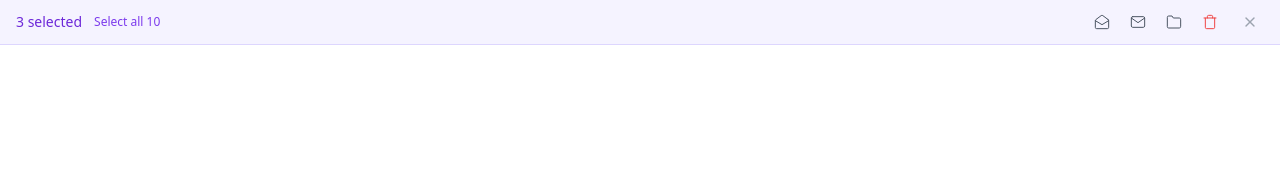
Test: BulkActionsBar › closes move dropdown after selecting a folder
The width and height of the screenshot is (1280, 172).
Click the button titled "Move to folder" at coordinates (1174, 22), box [1160,8,1188,36]
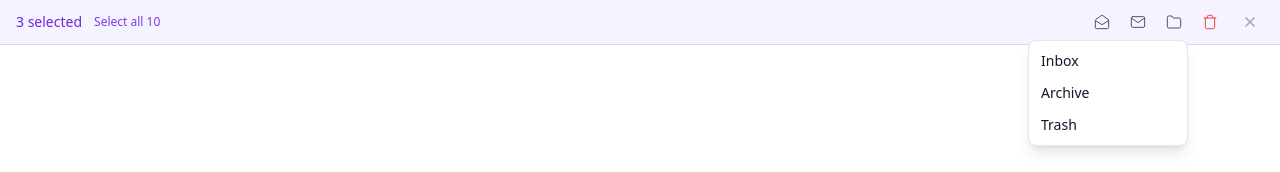
Expected: the menu is shown, [1028,40,1188,146]
Click the menu item "Inbox" at coordinates (1108, 61), box [1029,45,1187,77]
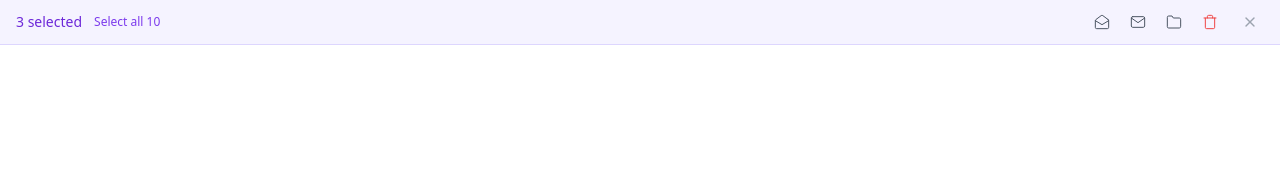
Expected: the menu is gone
